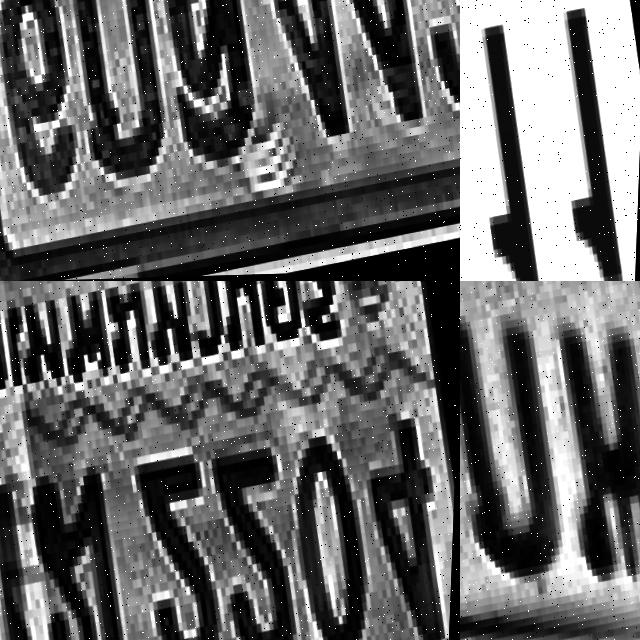license-plate: (0, 281, 460, 640), (0, 0, 460, 281), (460, 281, 640, 640), (460, 0, 640, 281)
